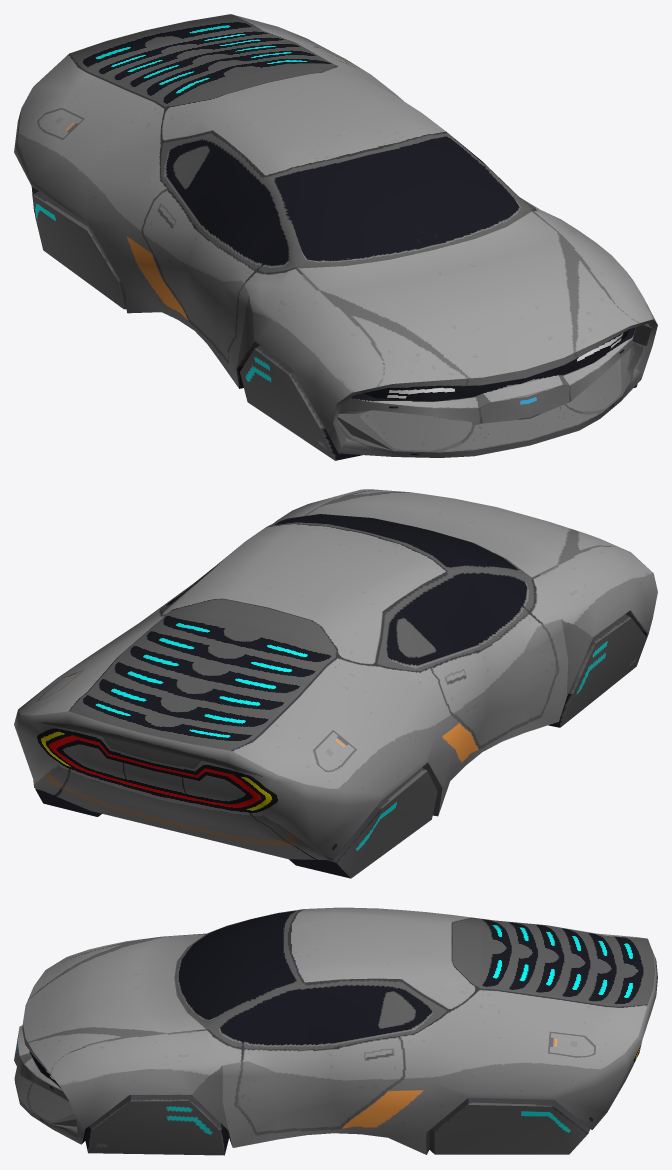
The model's file is obj_multiplexing_qiche_zhujue_B.fbx.
The picture shows the model from 3 angles, top to bottom: view 1: azimuth 30°, elevation 25°; view 2: azimuth 150°, elevation 25°; view 3: azimuth 270°, elevation 25°; orthographic projection. The views are drawn at different scales.
Visible parts, largest first — view 1: obj_multiplexing_qiche_zhujue_B, obj_multiplexing_qiche_zhujue_B_qiang; view 2: obj_multiplexing_qiche_zhujue_B, obj_multiplexing_qiche_zhujue_B_qiang; view 3: obj_multiplexing_qiche_zhujue_B, obj_multiplexing_qiche_zhujue_B_qiang.
Boxes of the visible parts, left/top/right/bottom form: obj_multiplexing_qiche_zhujue_B: left=14, top=14, right=657, bottom=460; obj_multiplexing_qiche_zhujue_B_qiang: left=274, top=136, right=519, bottom=260; obj_multiplexing_qiche_zhujue_B: left=14, top=489, right=657, bottom=878; obj_multiplexing_qiche_zhujue_B_qiang: left=274, top=514, right=518, bottom=570; obj_multiplexing_qiche_zhujue_B: left=14, top=907, right=657, bottom=1155; obj_multiplexing_qiche_zhujue_B_qiang: left=178, top=911, right=296, bottom=1020.
Bounding box in the file's own units: 234 × 120 × 449.
Materials: 1 (1 with a texture image).
